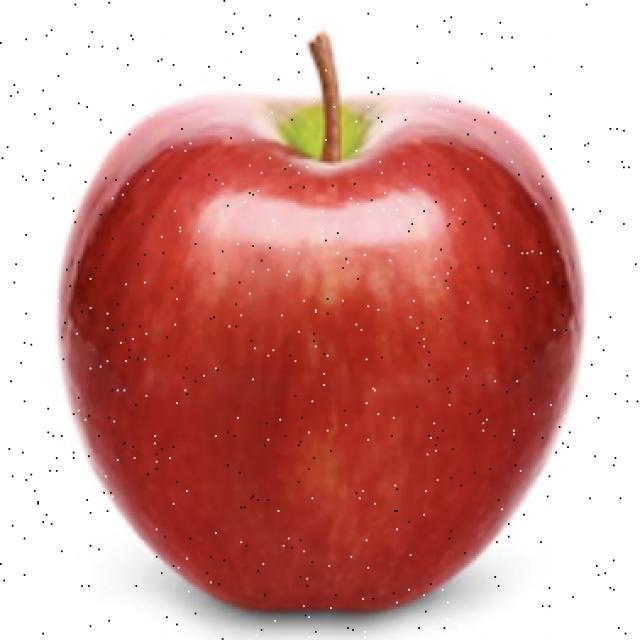Fresh Apple: (87, 89, 568, 614)
